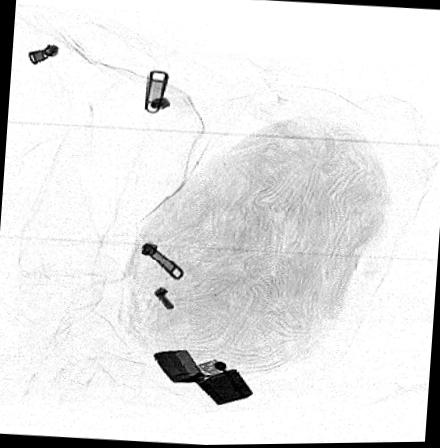Lighter: (151, 348, 253, 404)
